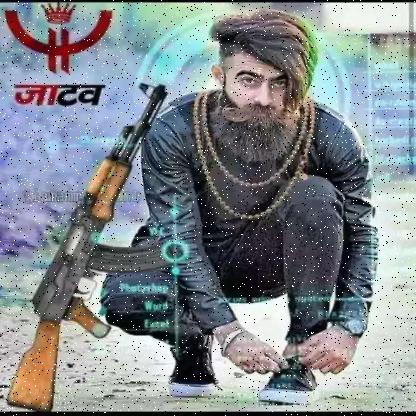rifle: (4, 80, 170, 413)
